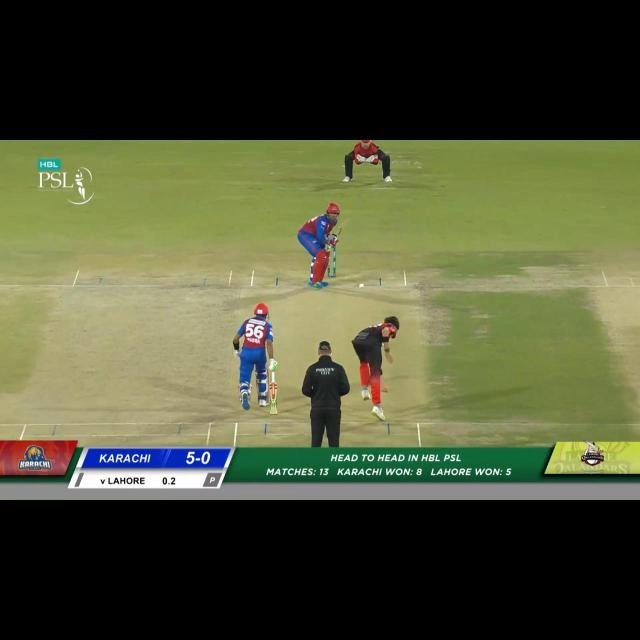bat: (269, 386, 278, 416), (336, 222, 347, 236)
toe: (268, 411, 278, 416), (340, 222, 345, 228)
